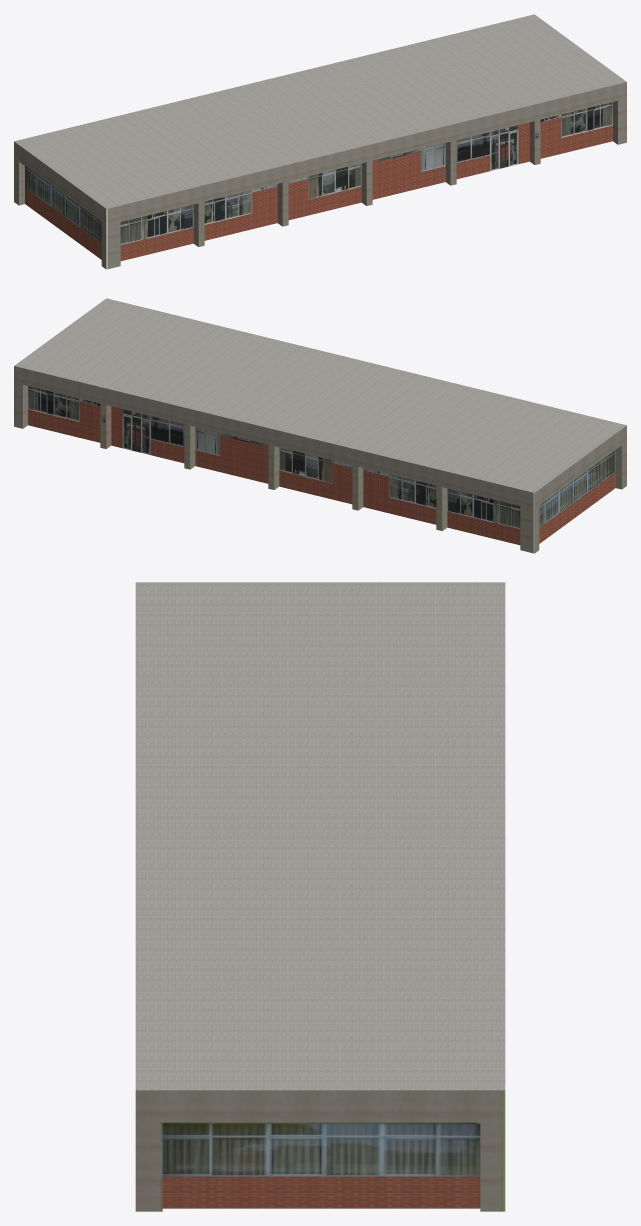
Rendered from biblioteca.fbx.
3 views of the same model, one above another, from view 1: azimuth 30°, elevation 25°; view 2: azimuth 150°, elevation 25°; view 3: azimuth 270°, elevation 25° (orthographic). The views are drawn at different scales.
Visible parts, largest first — view 1: Paredes; view 2: Paredes; view 3: Paredes.
Part boxes in pixels (x1=…): Paredes: x1=14, y1=14, x2=626, y2=269; Paredes: x1=14, y1=298, x2=626, y2=553; Paredes: x1=135, y1=582, x2=505, y2=1211.
Size of the model in its own units: 3340 by 372 by 1028.
